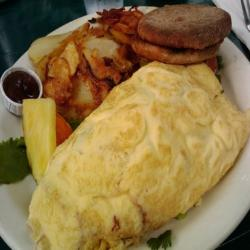omelette: (27, 60, 245, 245)
